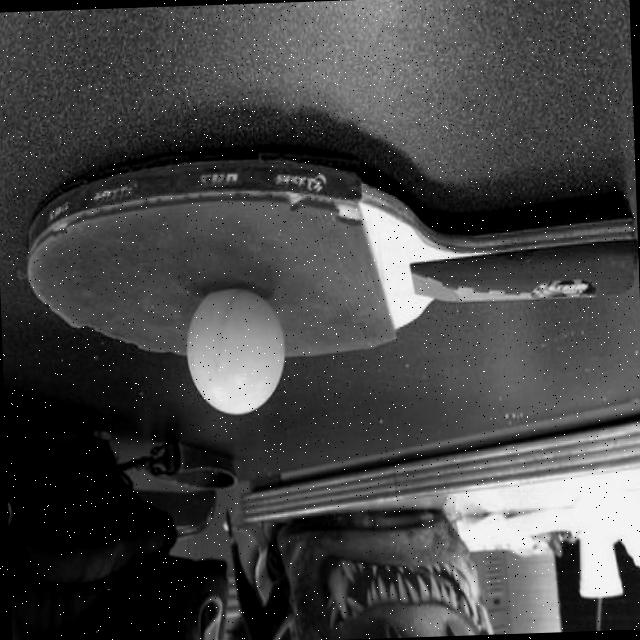ping-pong-ball: (182, 276, 287, 414)
